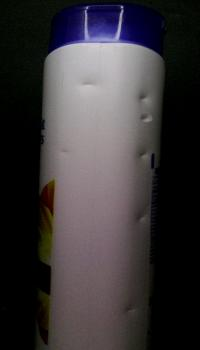dent_marginal: (127, 208, 152, 229), (118, 302, 140, 320), (138, 109, 157, 126), (134, 92, 156, 105), (132, 149, 152, 163), (56, 147, 76, 160), (78, 81, 102, 90)
